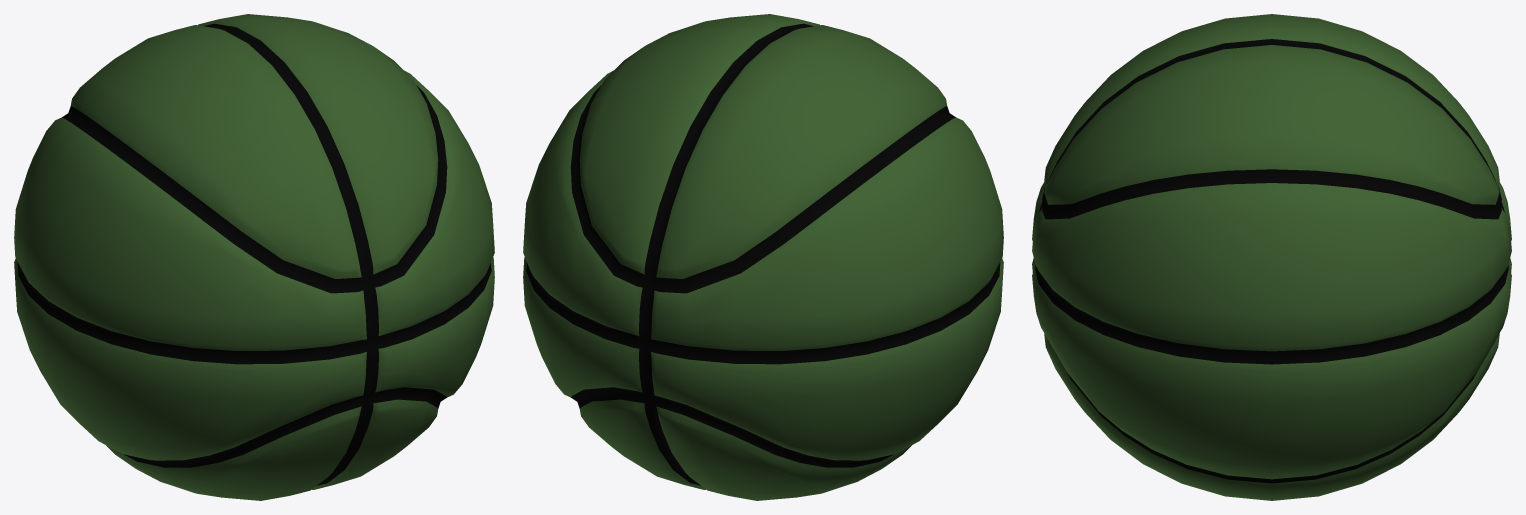
File: Ball.glb
The picture shows the model from 3 angles, left to right: view 1: azimuth 30°, elevation 25°; view 2: azimuth 150°, elevation 25°; view 3: azimuth 270°, elevation 25°; orthographic projection.
Parts seen in each view (by area): view 1: Ball_GLB; view 2: Ball_GLB; view 3: Ball_GLB.
Boxes of the visible parts, <box> form: Ball_GLB: <box>14,14,494,500</box>; Ball_GLB: <box>523,14,1003,500</box>; Ball_GLB: <box>1032,14,1511,500</box>.
Size of the model in its own units: 0.2412 by 0.2412 by 0.2402.
